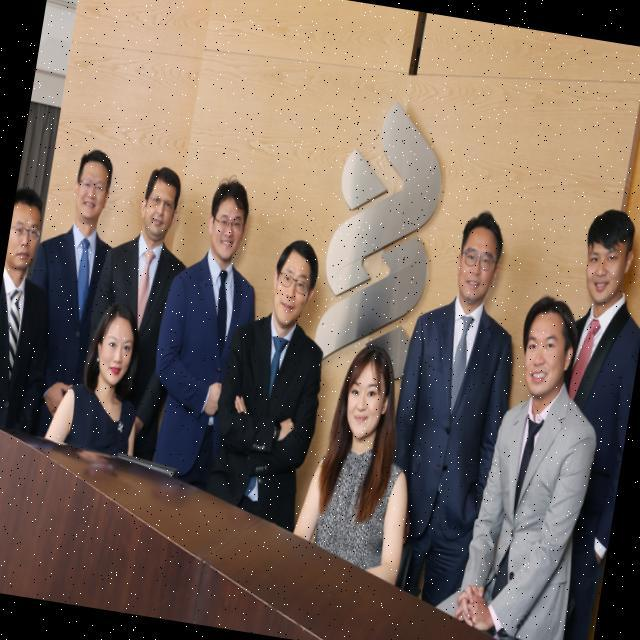Standard Chartered: (307, 92, 457, 392)
